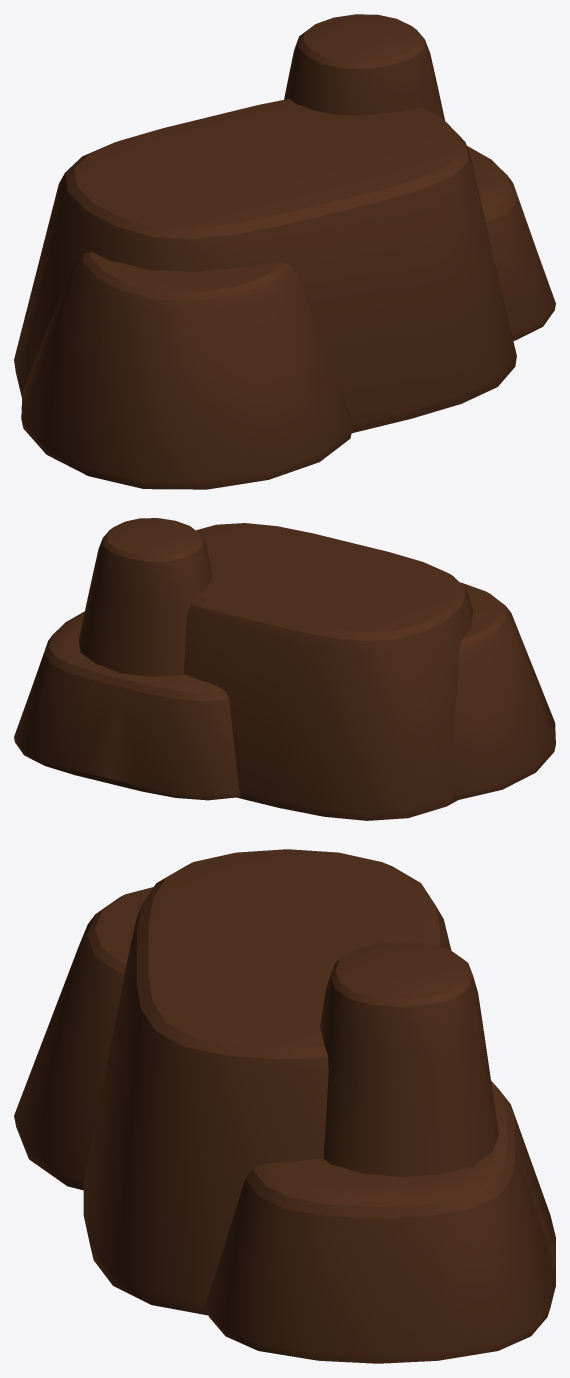
File: RockPlatforms_2.obj
3 renders of one model, top to bottom at view 1: azimuth 30°, elevation 25°; view 2: azimuth 150°, elevation 25°; view 3: azimuth 270°, elevation 25°, orthographic. The views are drawn at different scales.
Parts seen in each view (by area): view 1: RockPlatforms_2_Cube.373; view 2: RockPlatforms_2_Cube.373; view 3: RockPlatforms_2_Cube.373.
Boxes of the visible parts, bbox=[...] form: RockPlatforms_2_Cube.373: bbox=[14, 14, 555, 489]; RockPlatforms_2_Cube.373: bbox=[14, 518, 555, 820]; RockPlatforms_2_Cube.373: bbox=[14, 849, 555, 1363].
Bounding box in the file's own units: 9.32 × 4.45 × 6.74.
